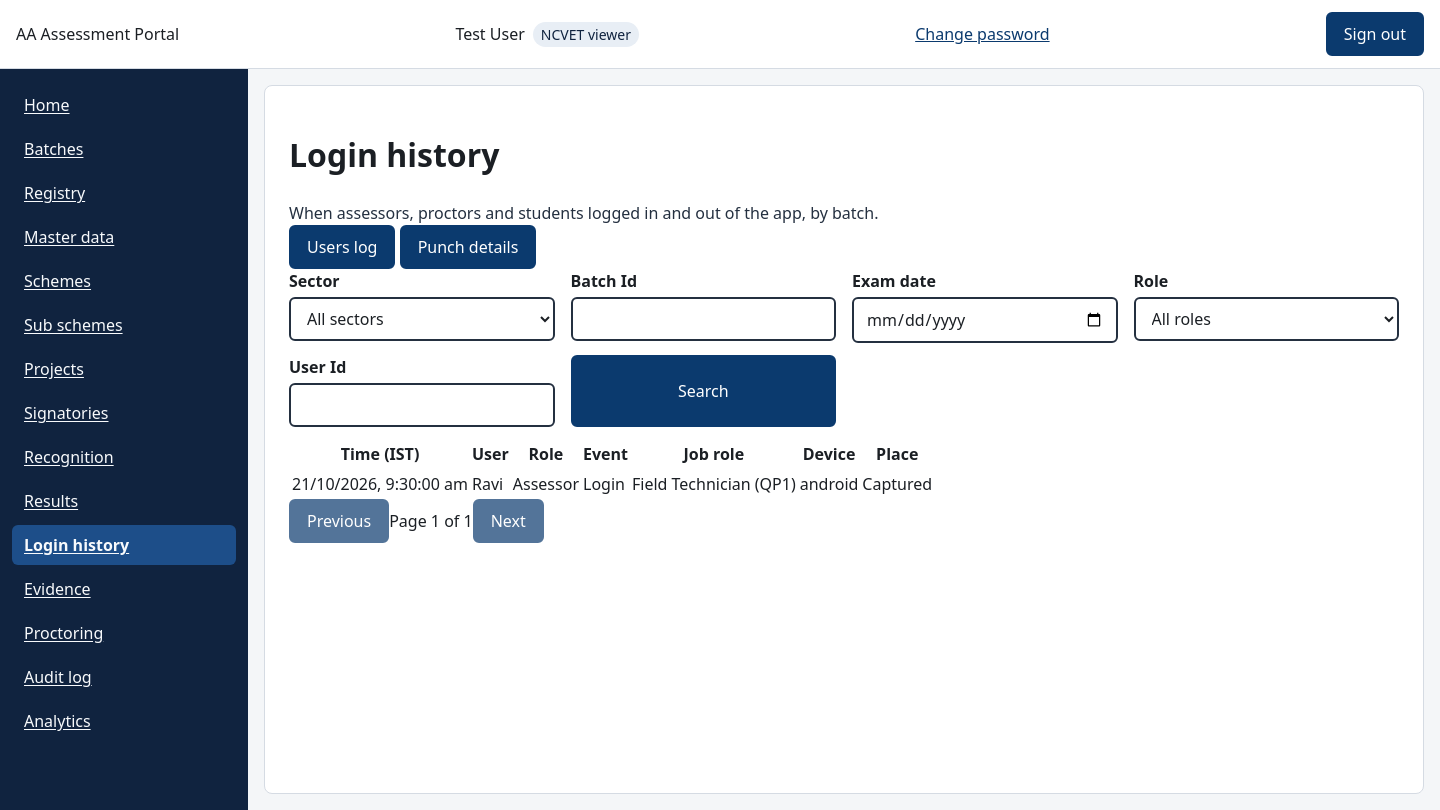
Test: lists login events and switches to punch details
Expected: the heading "Login history" is shown, [289,133,499,176]
Expected: the text "Captured" is shown, [861,471,933,497]
Click the button "Punch details": point(468, 247) [400,225,536,269]
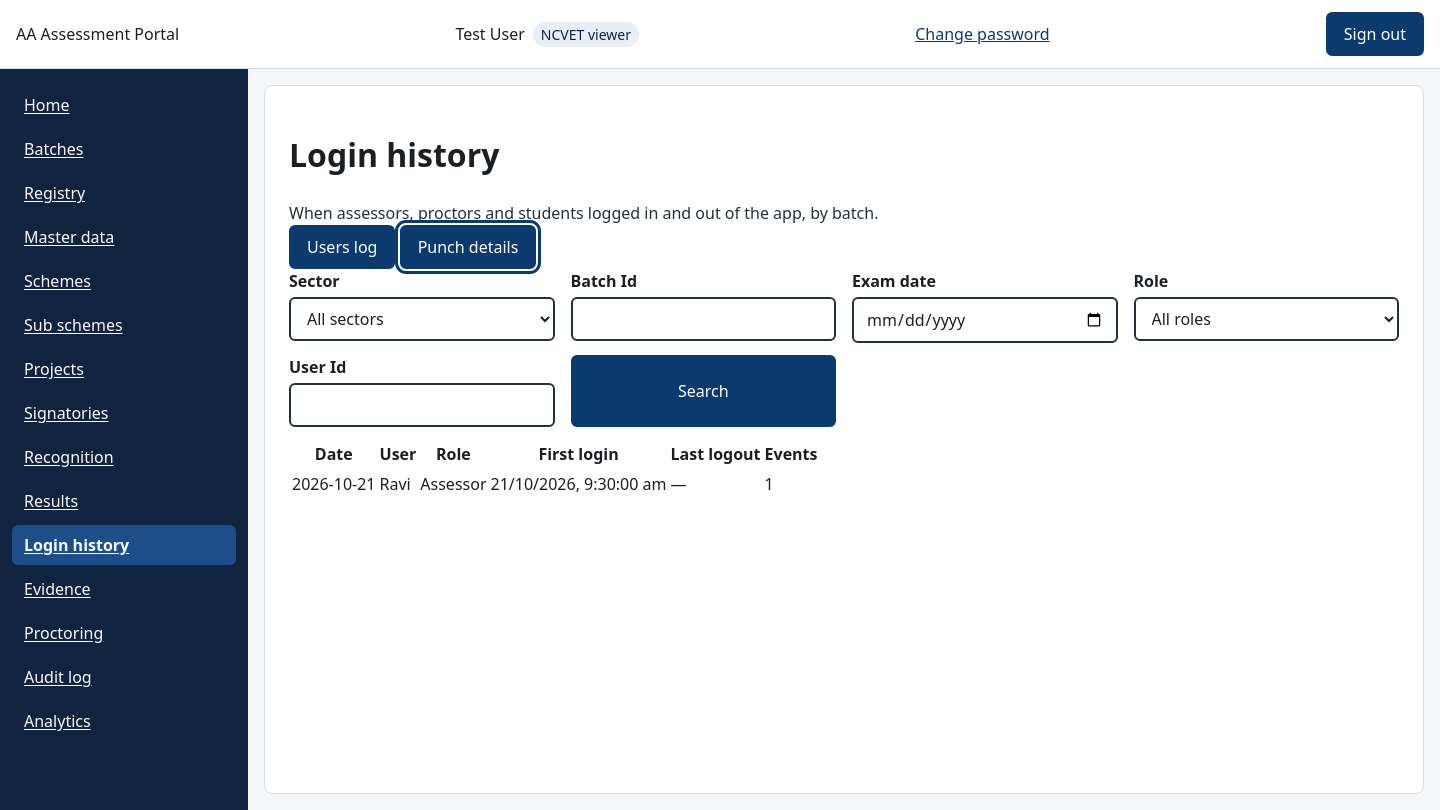
Expected: the text "Ravi" is shown, [378,471,417,497]
Expected: the column heading "First login" is shown, [490,441,668,467]
